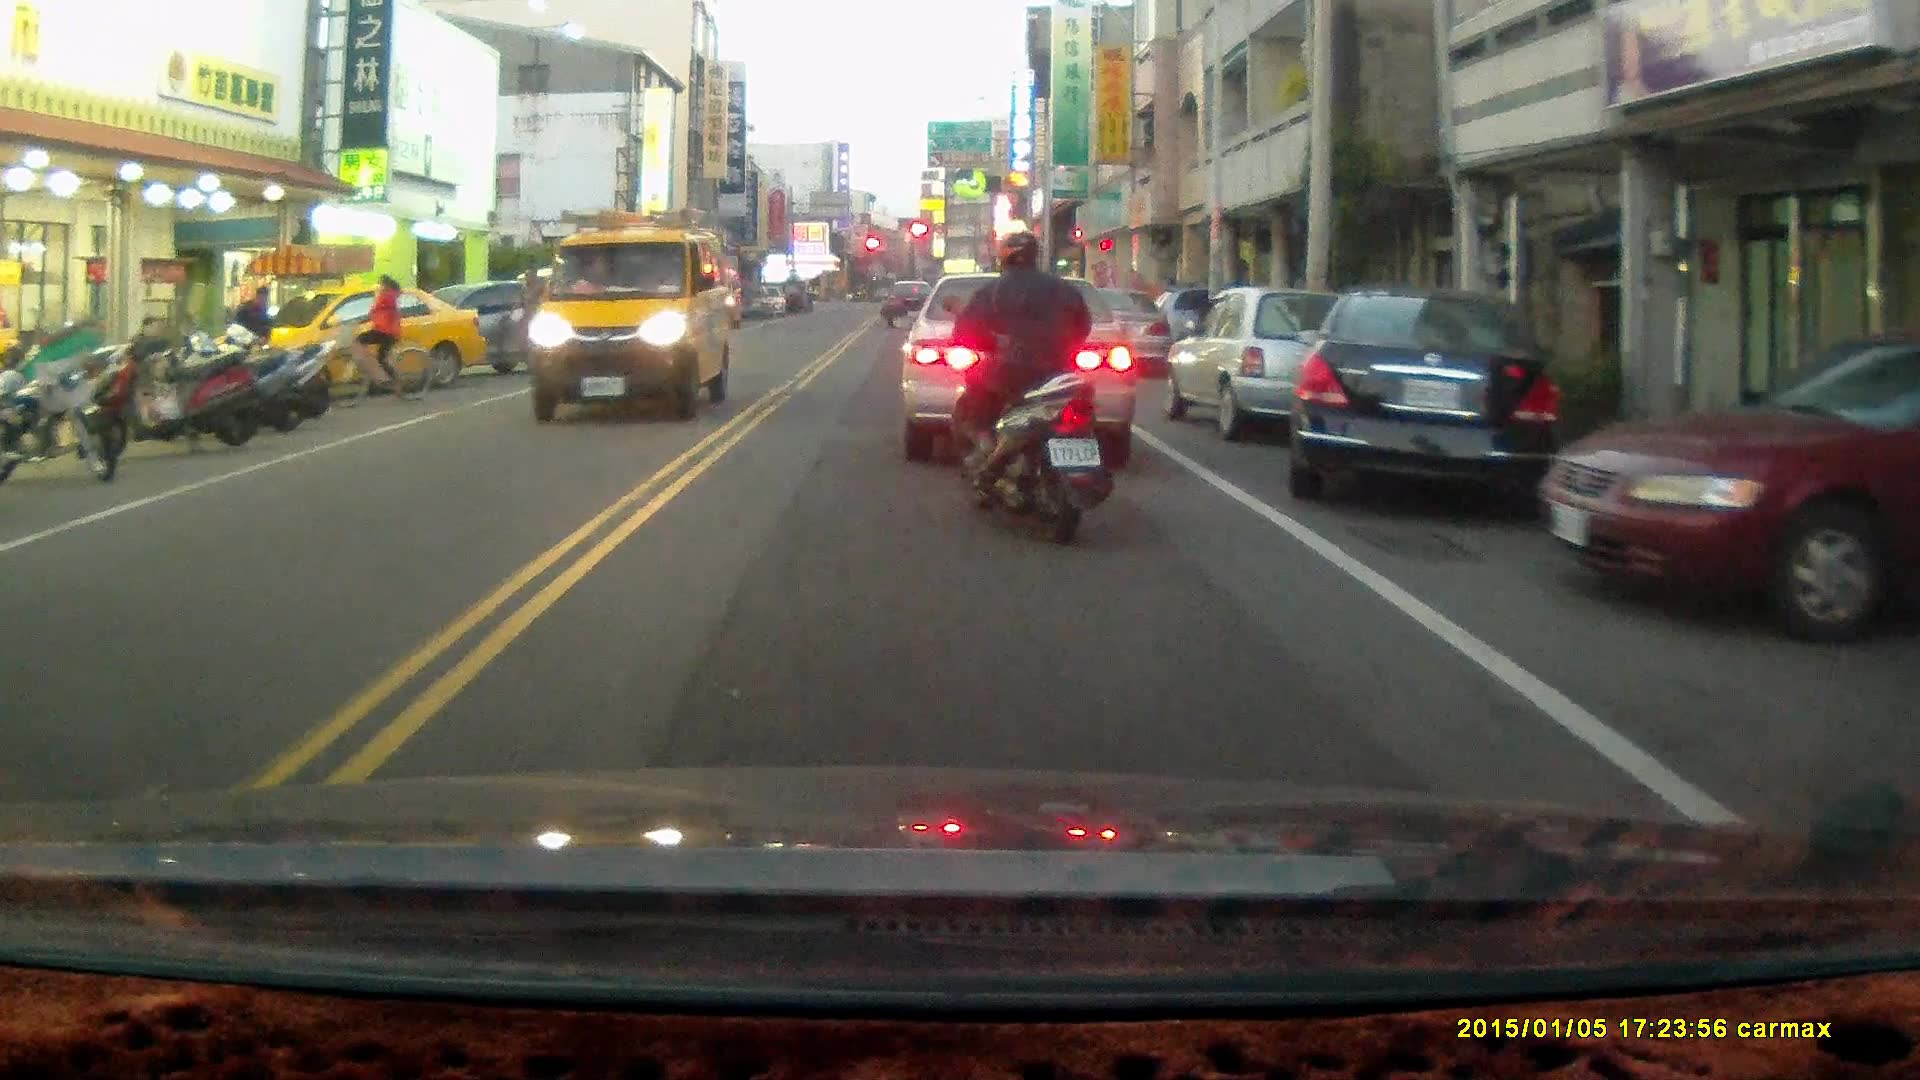pedestrian: (232, 284, 275, 382), (511, 264, 550, 371)
rider: (941, 228, 1110, 547), (325, 274, 430, 408)
vehicle: (1533, 329, 1920, 649), (1297, 284, 1568, 520), (907, 269, 1150, 459), (526, 211, 737, 421), (1158, 284, 1389, 443), (255, 288, 488, 397)
